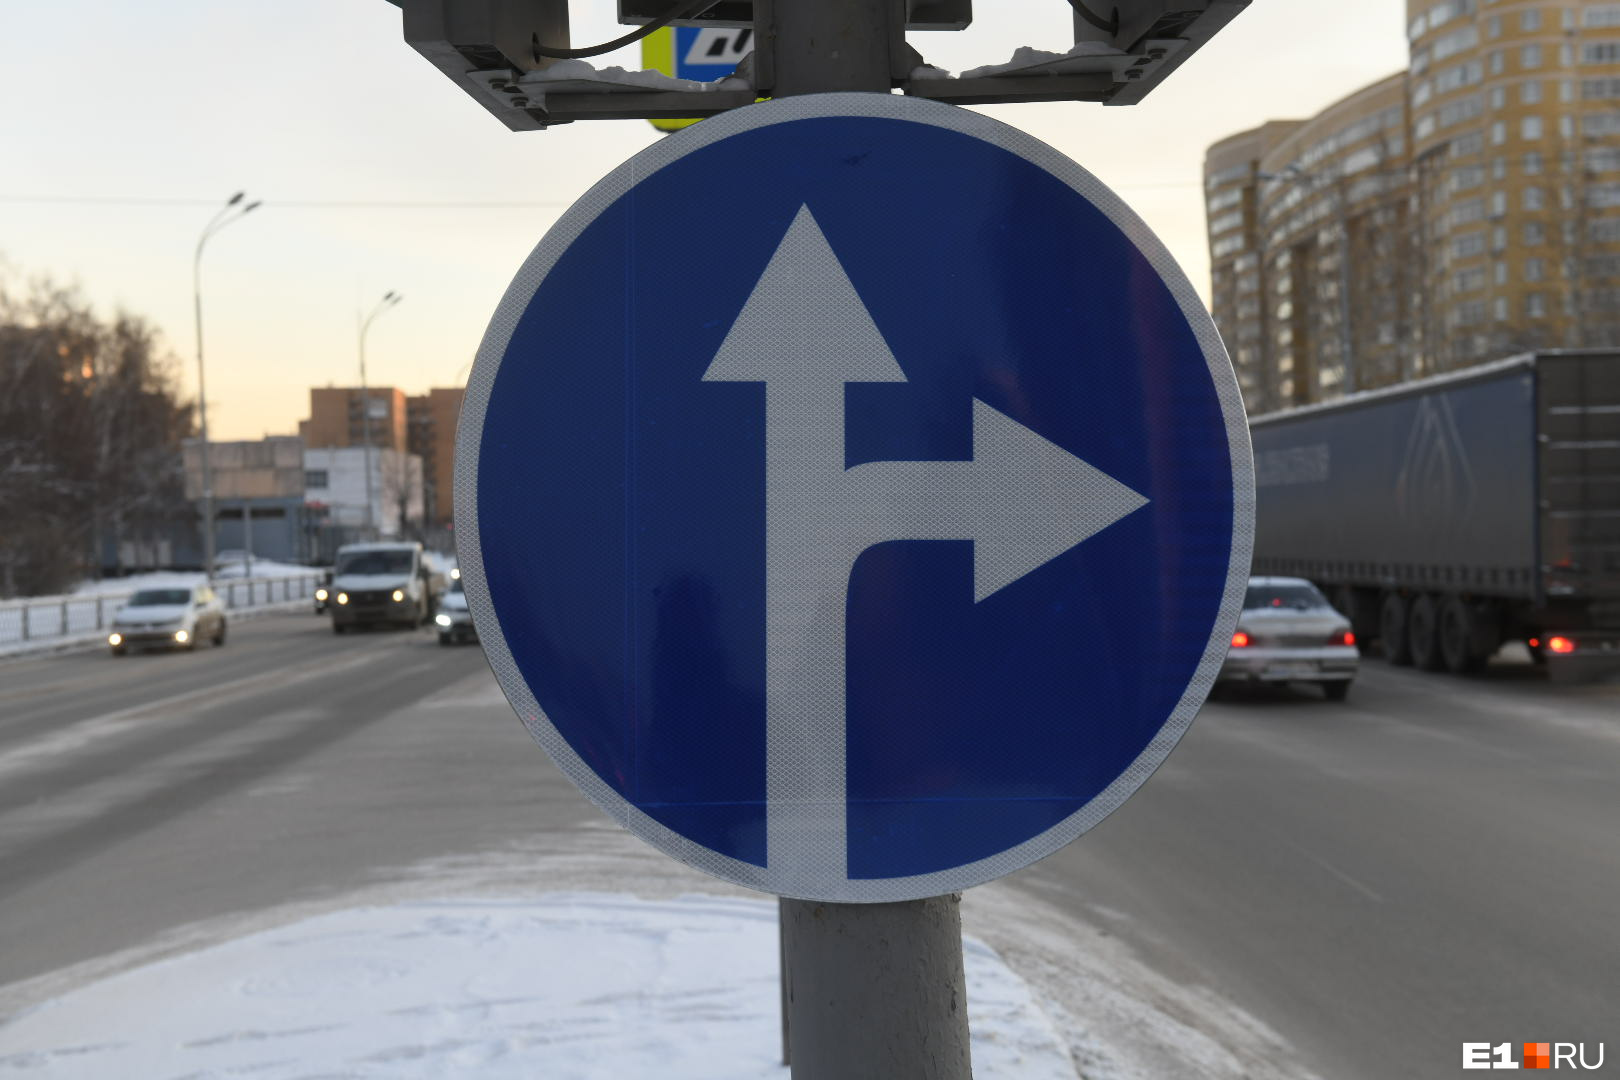ileri_veya_saga: (452, 86, 1261, 904)
kamyon: (1234, 356, 1618, 693)
otomobil: (1231, 577, 1357, 695), (309, 542, 444, 641), (82, 573, 221, 667)
